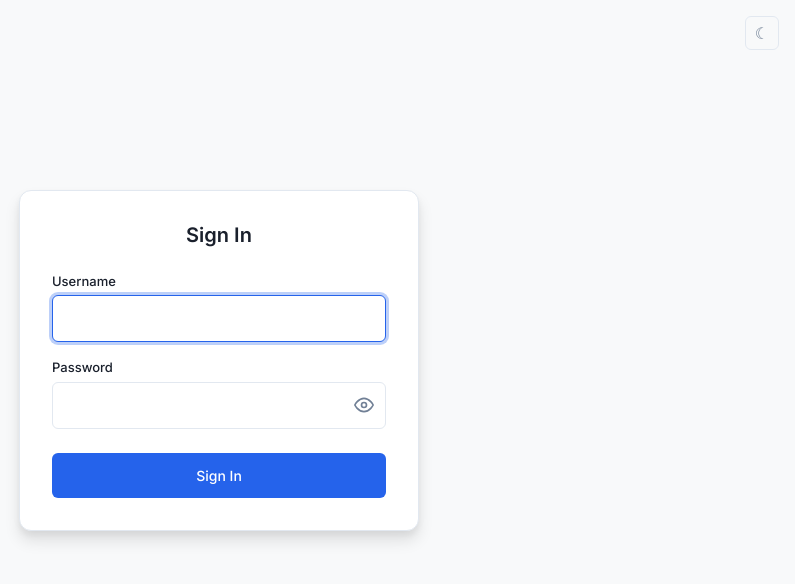
it: Login › shows a generic error when the rejection is not an Error
The width and height of the screenshot is (795, 584).
Type "alice" into the field labelled "Username" at (219, 318), box [52,295,386,342]
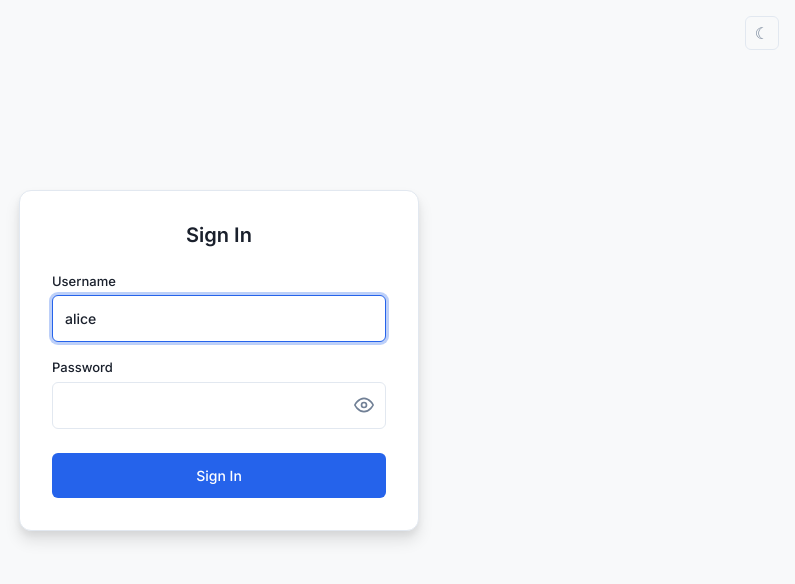
Type "wrong" into the password field labelled "Password" at (219, 405), box [52,382,386,428]
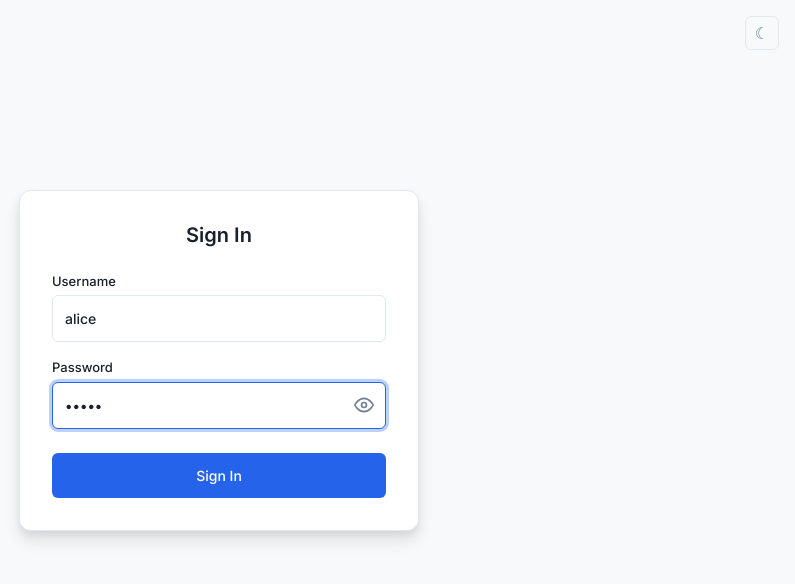
Click the button "Sign In" at (219, 475), box [52,452,386,498]
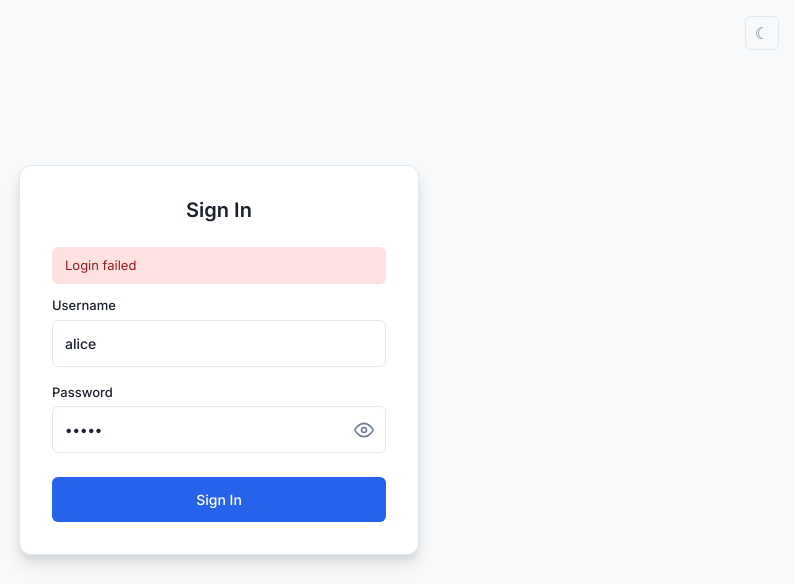
Expected: the message reads "Login failed", [65,257,136,273]
